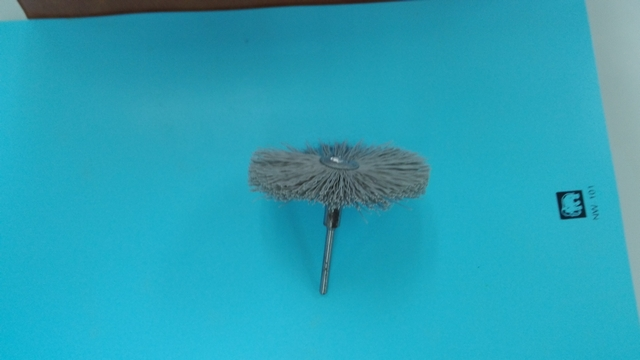TOOL: (204, 110, 466, 321), (237, 124, 452, 280)
